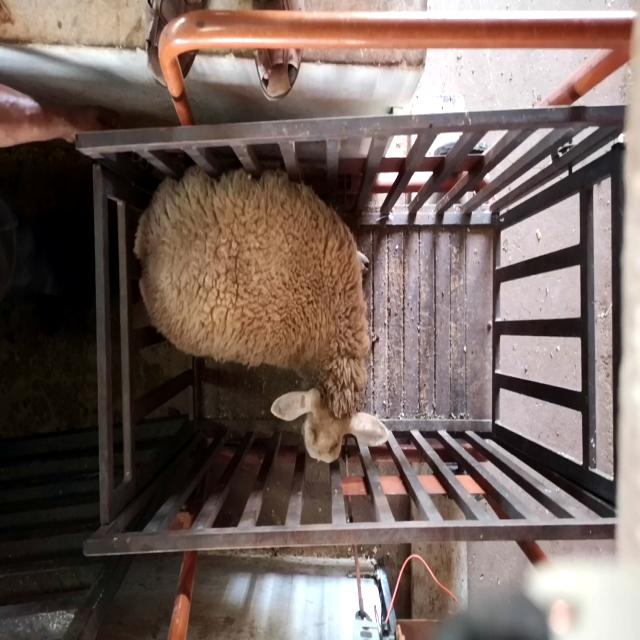sheep: (133, 167, 391, 464)
